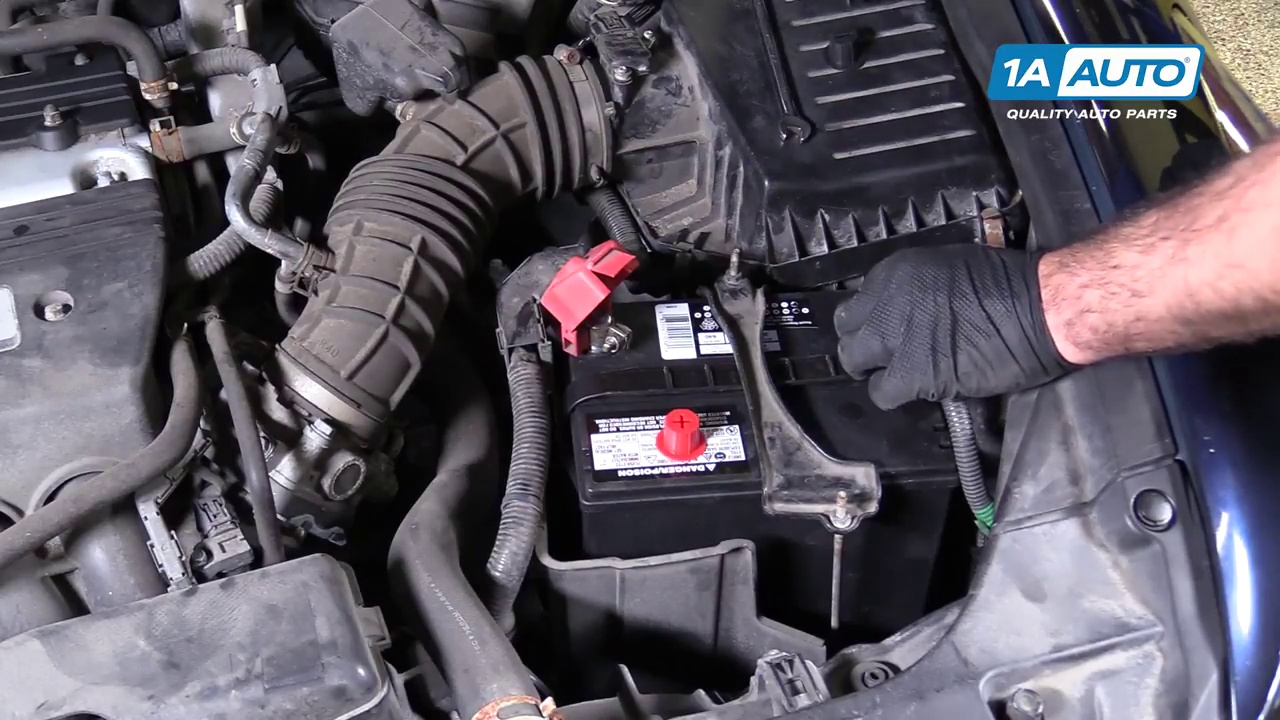battery: (547, 266, 961, 477)
pos_connected: (515, 253, 665, 377)
